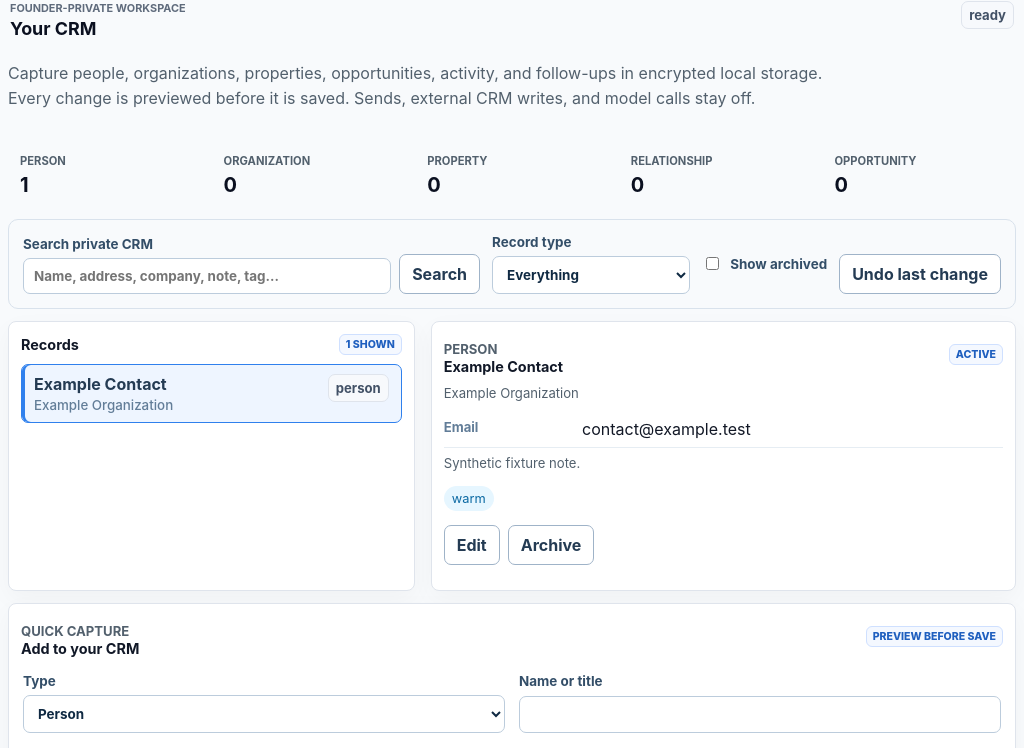
Test case: CrmAdoptionWorkspace › keeps a confirmed mutation distinct from a failed post-receipt refresh
In the field labelled "Name or title": (760,715) [519, 696, 1001, 733], type "Confirmed Example"
(page scrolled)
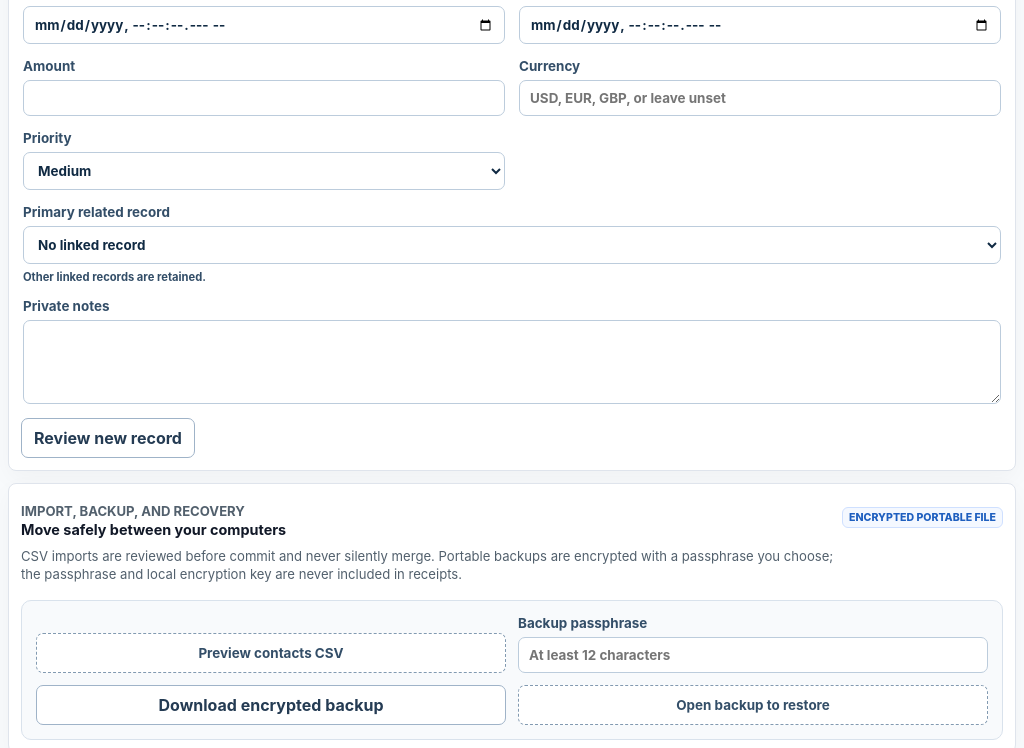
Click the button "Review new record": (108,438) [21, 418, 195, 458]
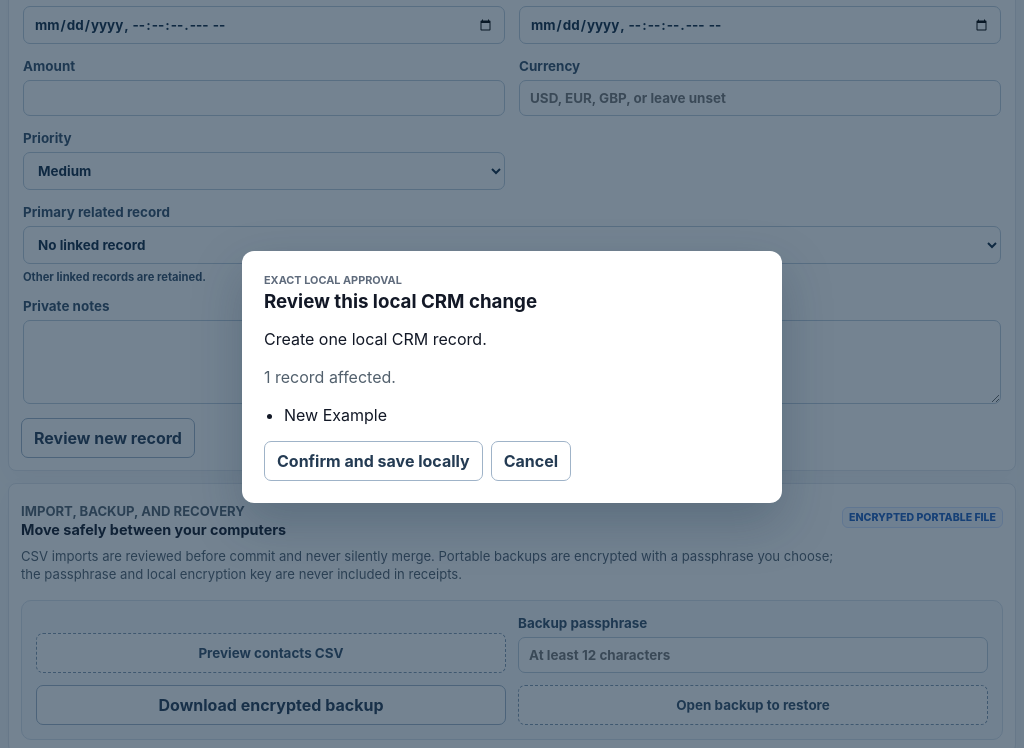
Now the dialog "Review this local CRM change" is shown, box [242, 251, 782, 503]
Click the button "Confirm and save locally": (373,461) [264, 441, 483, 481]
(page scrolled)
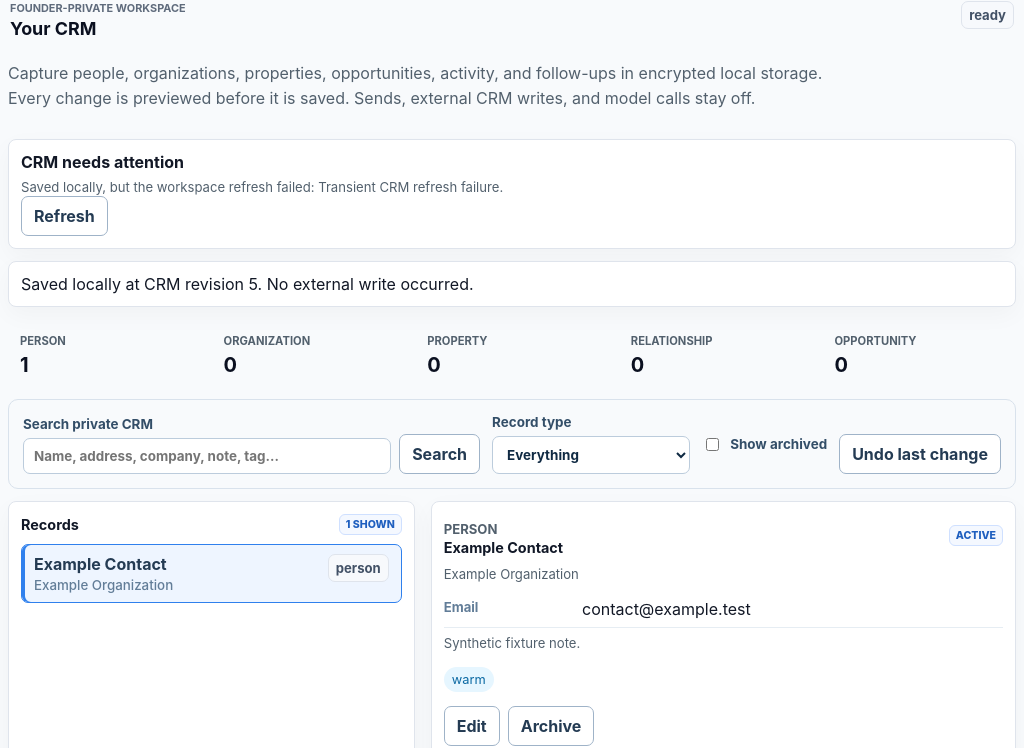
Now the text "Saved locally at CRM revision 5. No external write occurred." is shown, box [8, 261, 1016, 307]
Now the text "Saved locally, but the workspace refresh failed: Transient CRM refresh failure." is shown, box [21, 179, 503, 195]
Now the heading "Review this local CRM change" is gone
